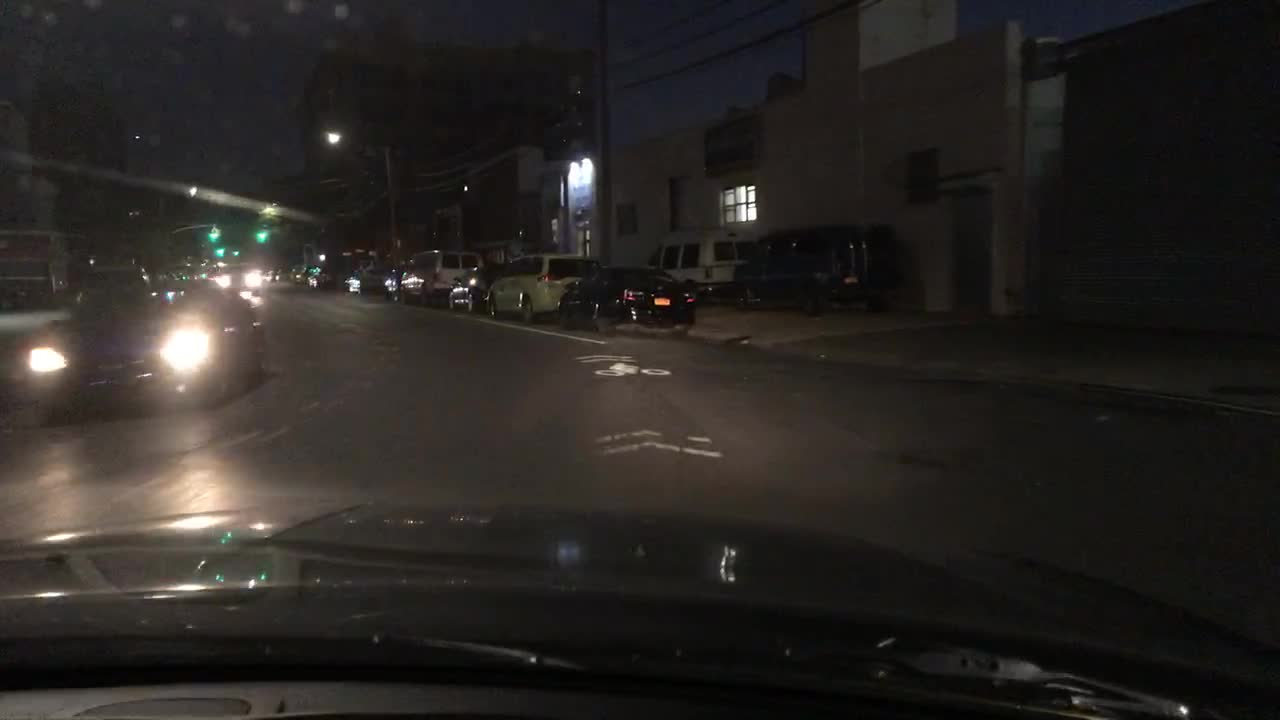car: (18, 275, 263, 419), (728, 219, 900, 308), (555, 262, 694, 335), (486, 252, 601, 320), (647, 229, 747, 301), (400, 247, 486, 301), (72, 259, 150, 301), (445, 260, 496, 313), (208, 263, 263, 291), (349, 265, 393, 291), (308, 264, 335, 286), (291, 263, 309, 283)
traffic light: (257, 223, 267, 243), (212, 242, 227, 255), (209, 228, 219, 239)
